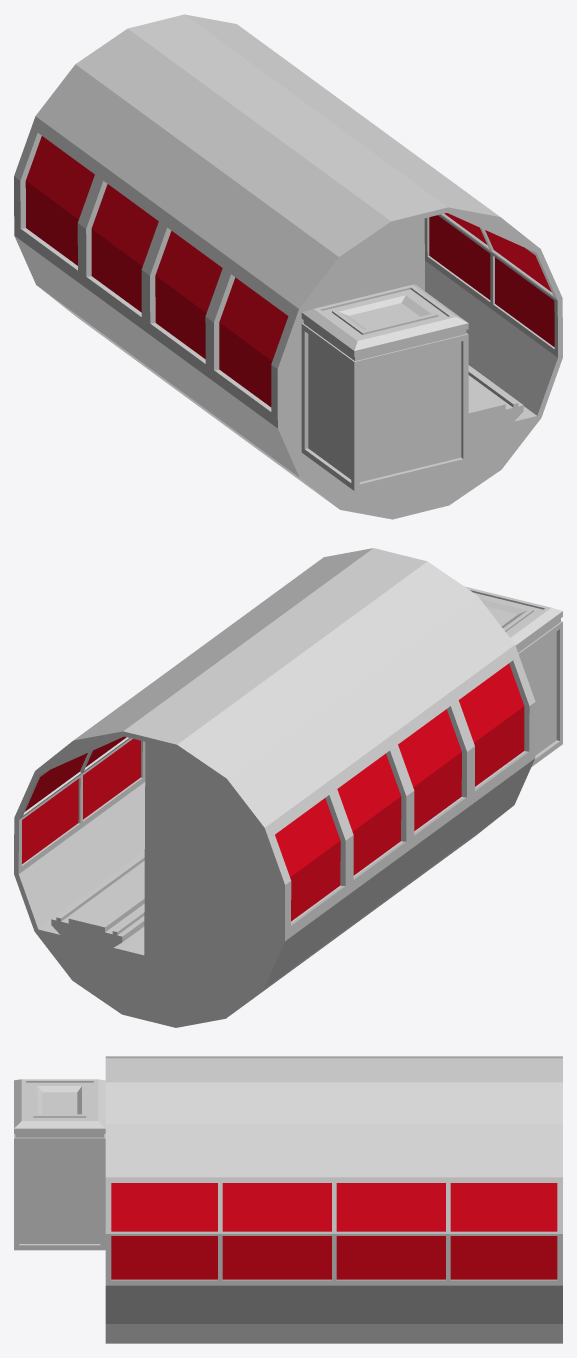
File: SM_monorail_station_01.glb
The picture shows the model from 3 angles, top to bottom: view 1: azimuth 30°, elevation 25°; view 2: azimuth 150°, elevation 25°; view 3: azimuth 270°, elevation 25°; orthographic projection. The views are drawn at different scales.
Parts seen in each view (by area): view 1: monorail_station_01; view 2: monorail_station_01; view 3: monorail_station_01.
Part boxes in pixels (x1,y1,x2,y2): monorail_station_01: (14, 14, 562, 519); monorail_station_01: (14, 548, 562, 1027); monorail_station_01: (14, 1056, 562, 1343).
Size of the model in its own units: 5 by 5 by 9.6.
